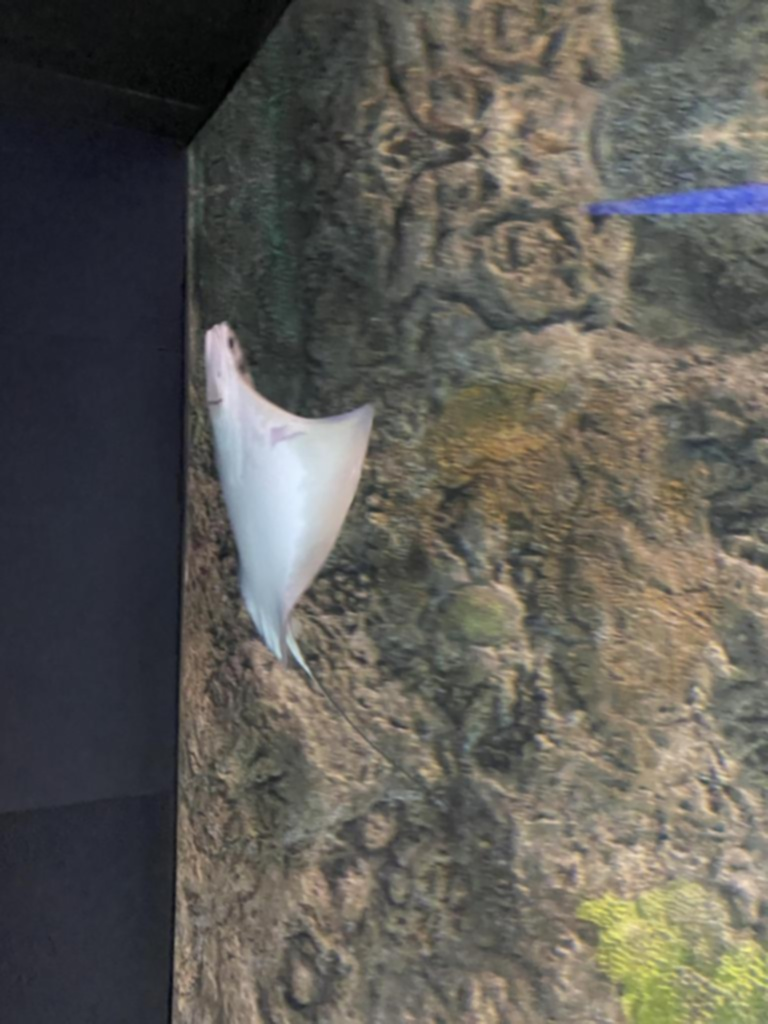stingray: (200, 322, 364, 664)
